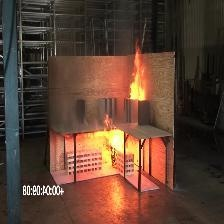fire: (68, 122, 145, 175), (113, 41, 156, 109)
